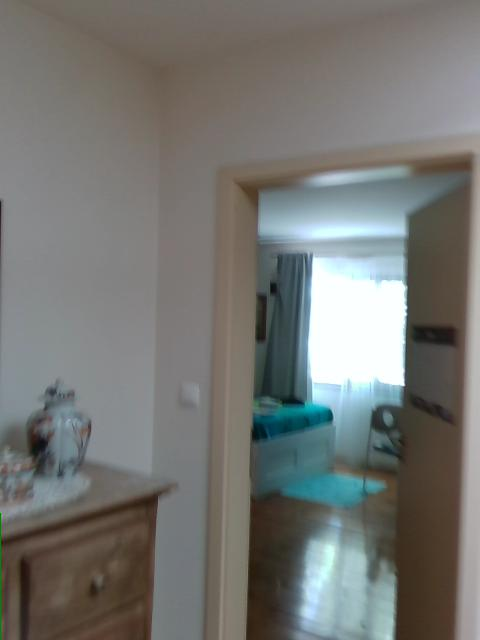semi_door: (204, 129, 479, 639)
